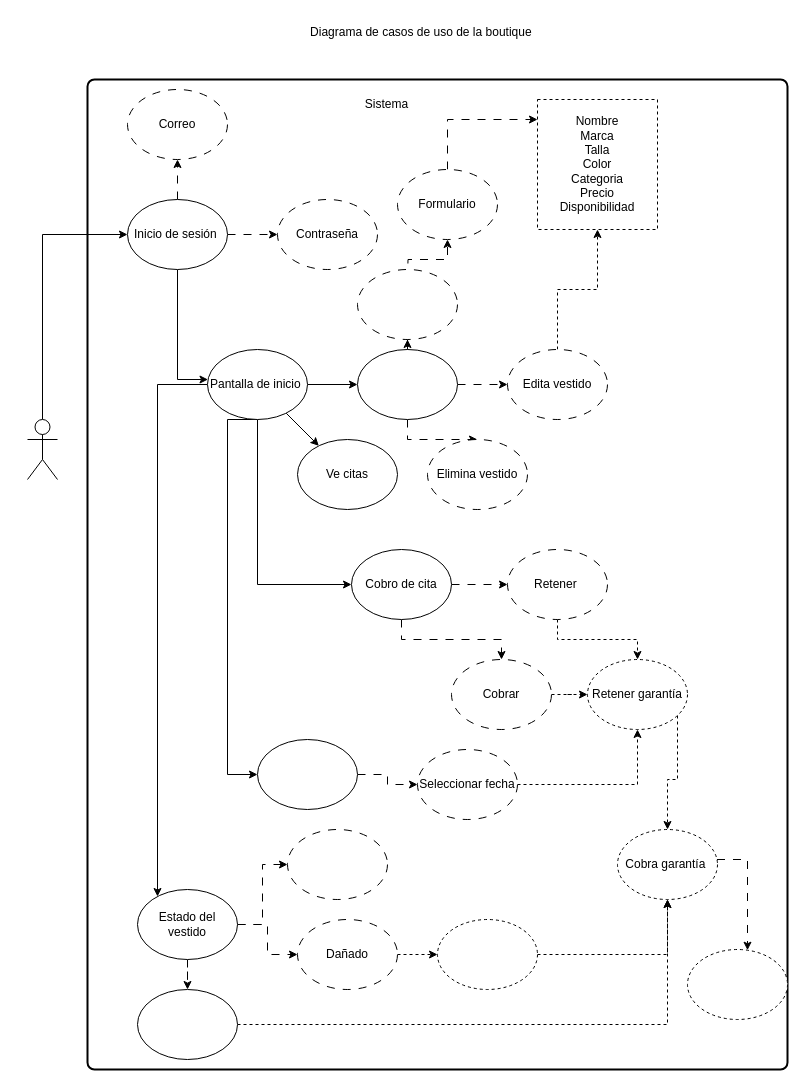
The diagram is 806 pixels wide and 1087 high, and some of its shapes have lost their labels. The box of each missing label's shape, as (x1, y1, x2, y2) in pixels:
Agendar entrega de vestido: (256, 738, 358, 810)
Agregar vestido: (356, 268, 458, 340)
Crud de vestidos: (356, 348, 458, 420)
describe el daño y porcentaje de cobro: (436, 918, 538, 990)
disponible: (686, 948, 788, 1020)
Perdido: (136, 988, 238, 1060)
Personal: (26, 418, 58, 480)
Sucio: (286, 828, 388, 900)
